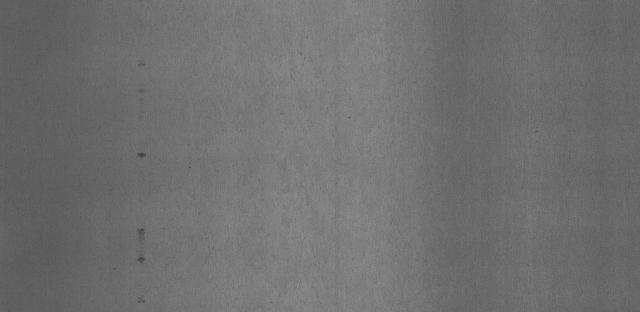oil_spot: (133, 222, 152, 269), (135, 82, 151, 123), (131, 287, 151, 309), (135, 54, 150, 72), (134, 145, 145, 159)
